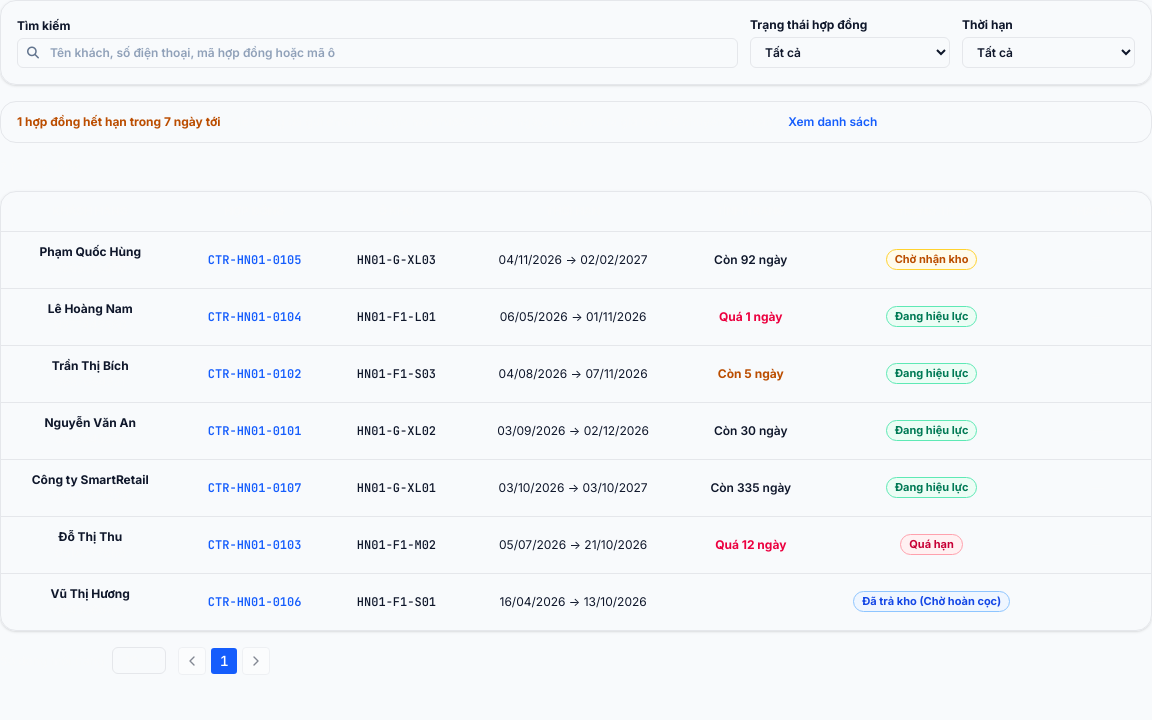
Test case: Chi tiết hợp đồng (bấm mã hợp đồng) › hợp đồng không có khoản phạt thì nói rõ, không hiện bảng rỗng
The image size is (1152, 720).
Click the button with aria-label "Xem chi tiết hợp đồng " at (255, 431), box [208,423,301,439]
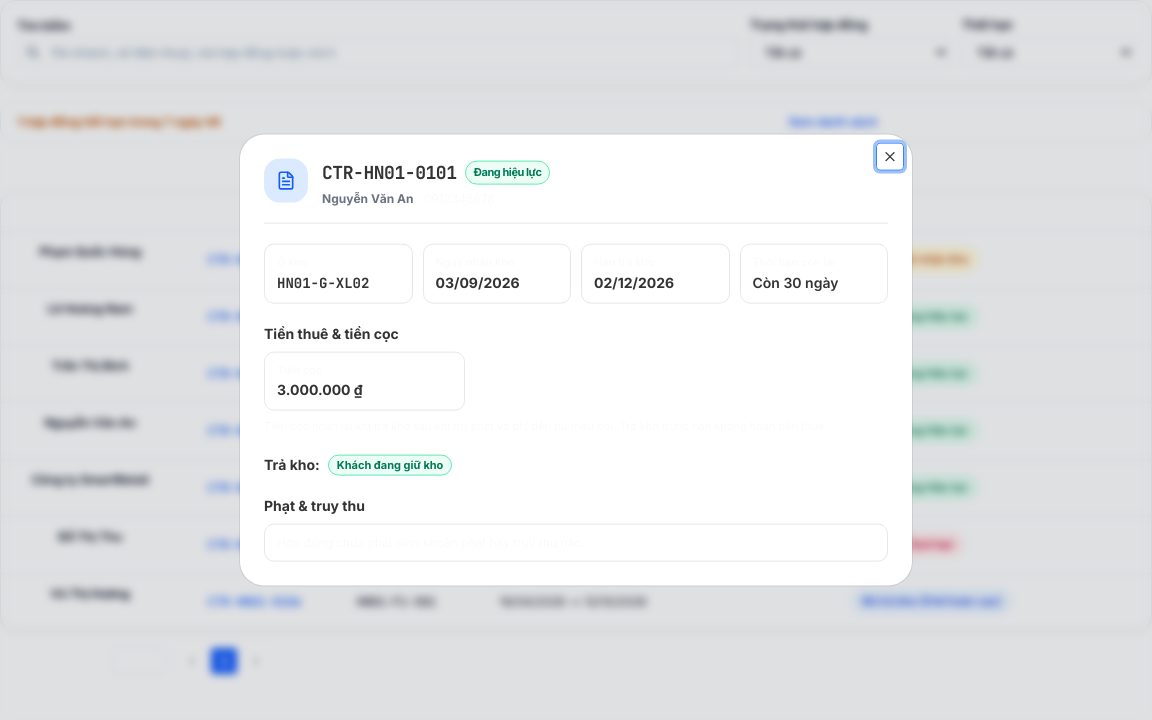
expect the text "Hợp đồng chưa phát sinh khoản phạt hay truy thu nào." is shown: met, box [264,523,888,561]
